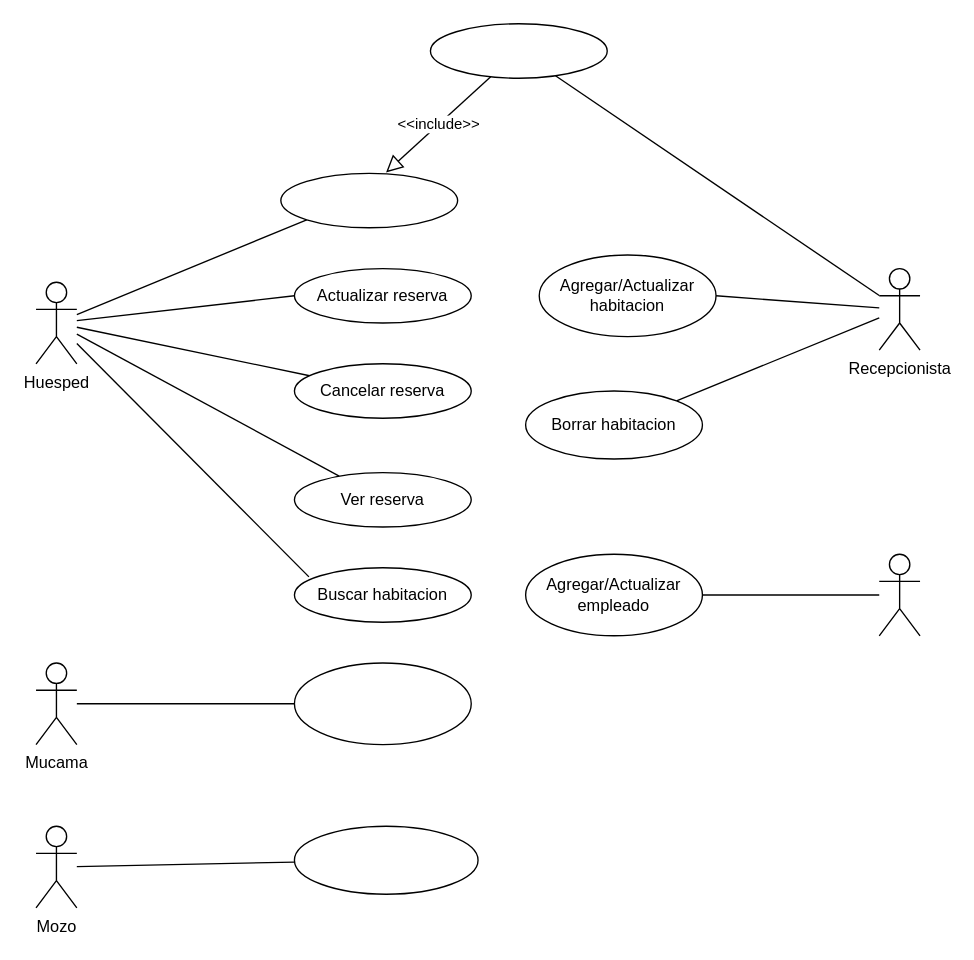
The diagram is 974 pixels wide and 960 high, and some of its shapes have lost their labels. The centre of each missing label's shape, as x and y in pixels:
"Agregar/Actualizar room charge" belongs at point (385, 859).
"Agregar/Actualizar room house keeping" belongs at point (382, 703).
"Crear reserva" belongs at point (518, 50).
"Gerente" belongs at point (899, 594).
"Reservar habitacion" belongs at point (368, 200).
